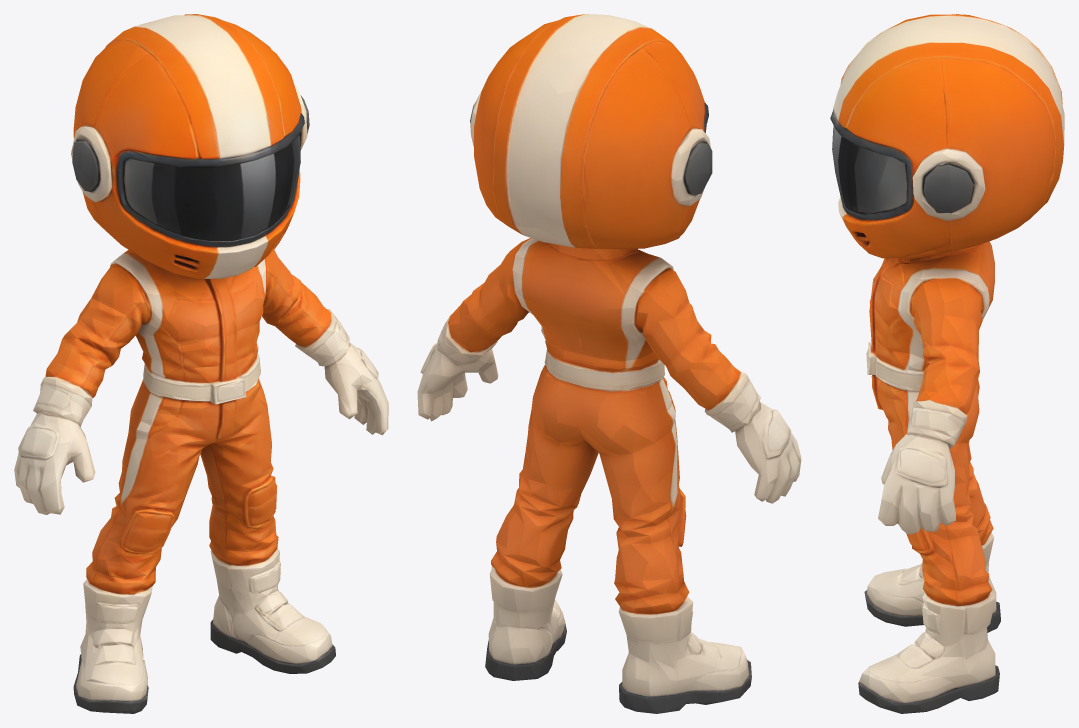
The picture shows the model from 3 angles, left to right: view 1: azimuth 30°, elevation 25°; view 2: azimuth 150°, elevation 25°; view 3: azimuth 270°, elevation 25°; orthographic projection. The views are drawn at different scales.
Parts seen in each view (by area): view 1: model; view 2: model; view 3: model.
Part boxes in pixels (x1,y1,x2,y2): model: (14, 14, 388, 713); model: (417, 14, 801, 713); model: (830, 14, 1064, 713).
Size of the model in its own units: 1.11 by 1.9 by 0.6344.
1 material, 1 textured.
